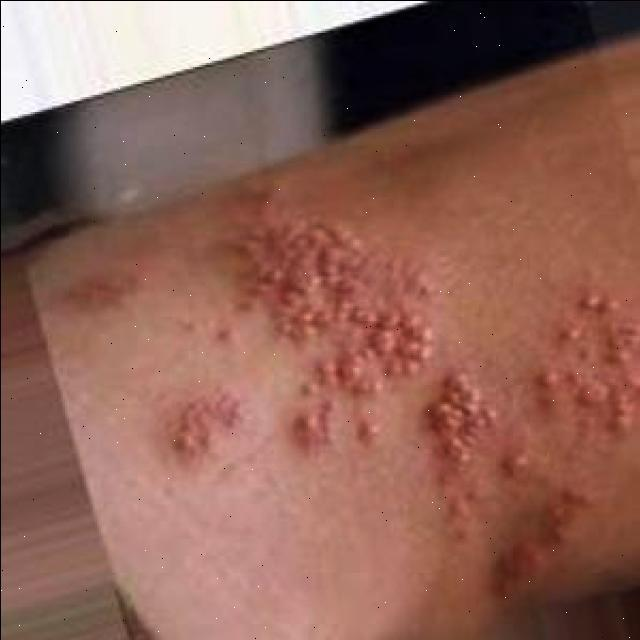Shingles: (242, 182, 433, 452), (533, 288, 640, 430), (434, 367, 502, 479), (174, 382, 250, 464)
